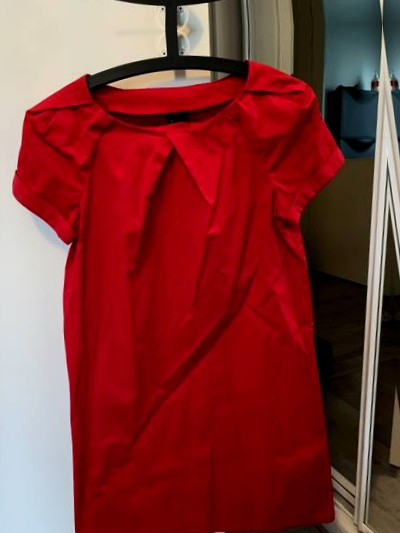Dress: (1, 47, 368, 533), (0, 60, 15, 533), (0, 0, 348, 14)
